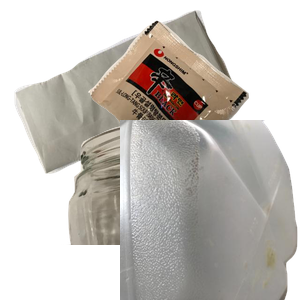glass: (61, 120, 287, 300)
paper: (12, 10, 240, 176)
plastic: (120, 120, 300, 300)
trash: (86, 18, 300, 194)
